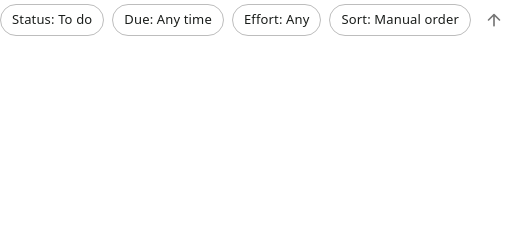
Test: FilterBar › offers a cost’s own choices, and the items that answered none
This screenshot has width=518, height=249.
Later steps or results of the test are not shown.
Click the button "Effort: Any" at (277, 20), box [232,4,322,36]
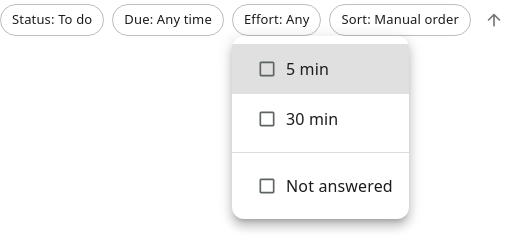
Expected: the menu item "5 min" is shown, [232,44,409,94]
Expected: the menu item "30 min" is shown, [257,108,338,130]
